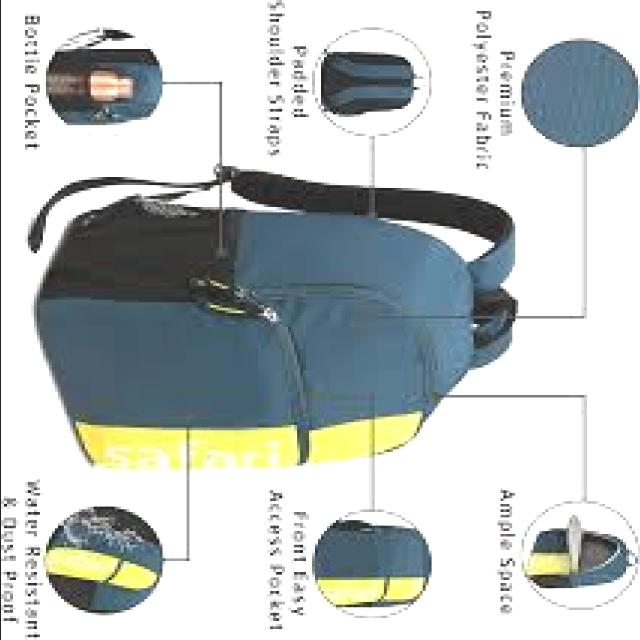backpack: (31, 165, 521, 473)
